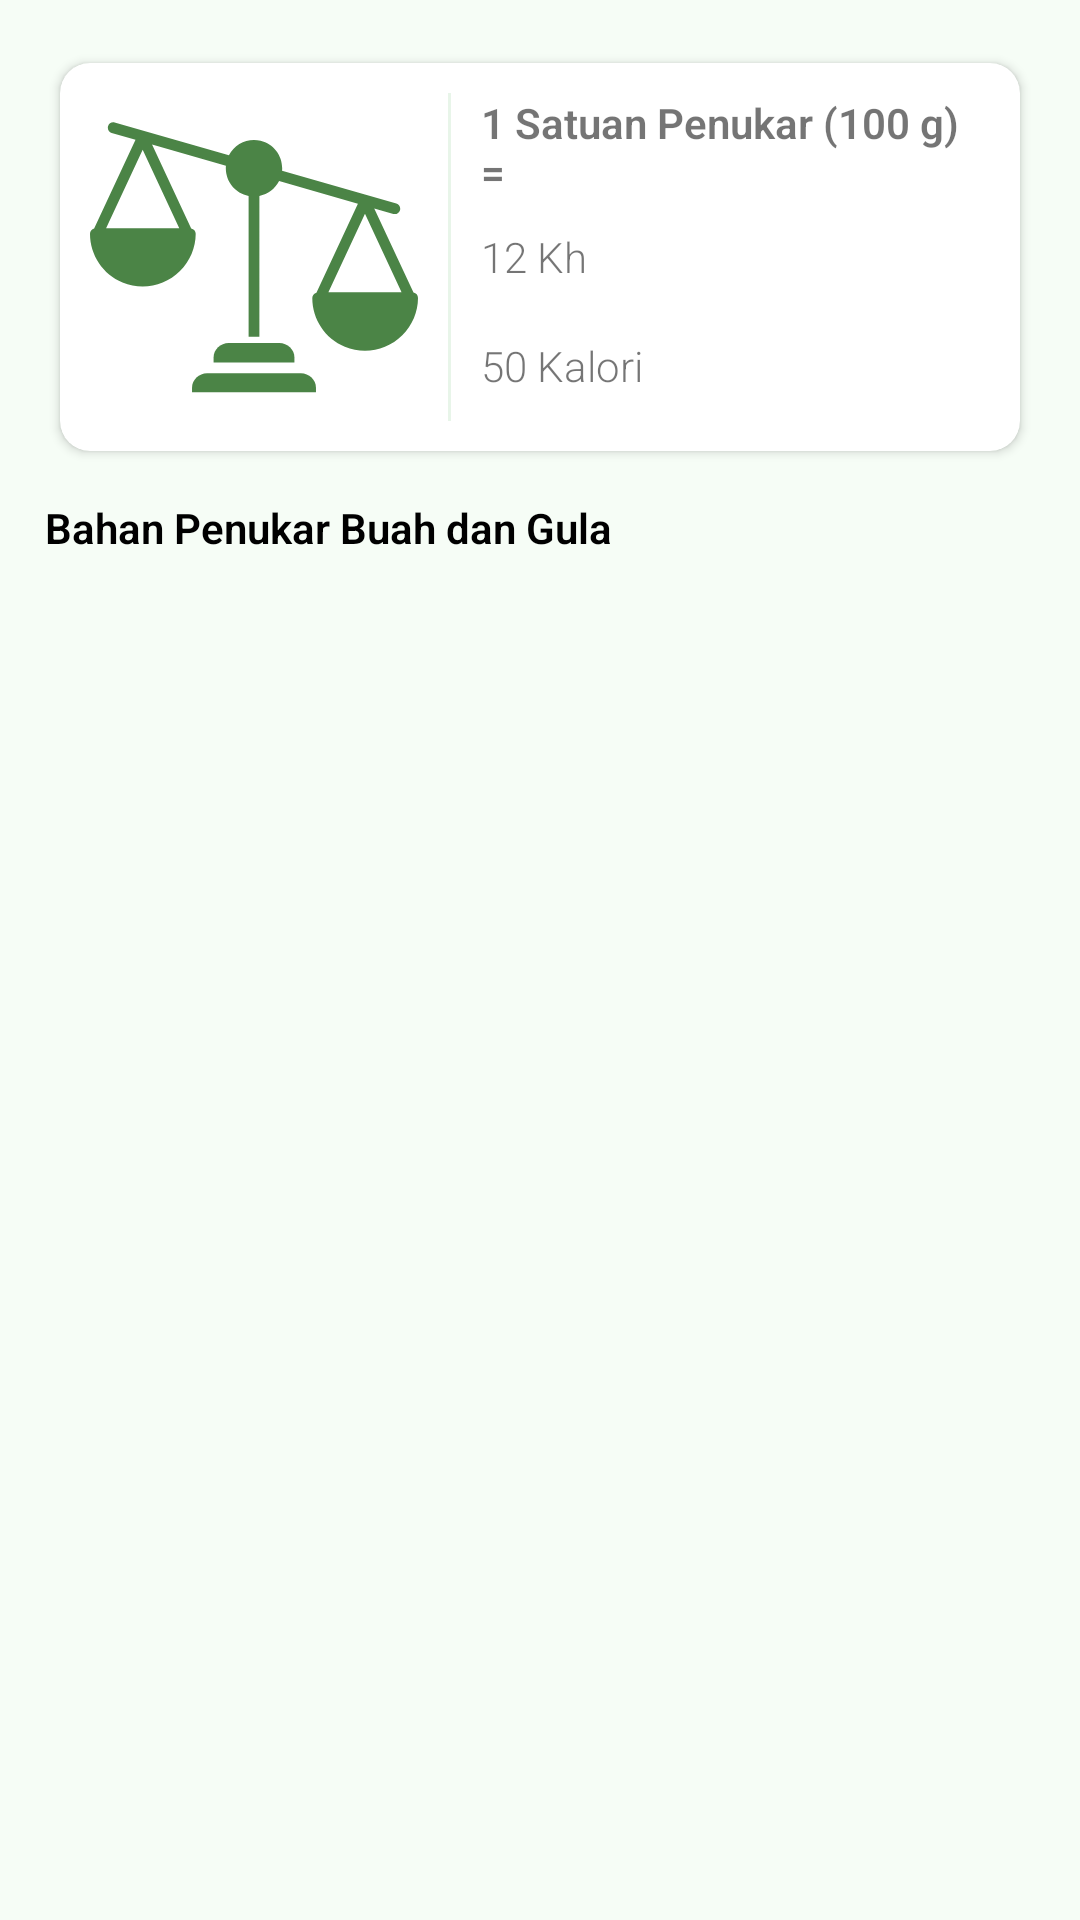

Icons on this 1080px x 1920px Android screen, each with its box as (x1, y1, x2, y2):
balance: (90, 122, 418, 393)
